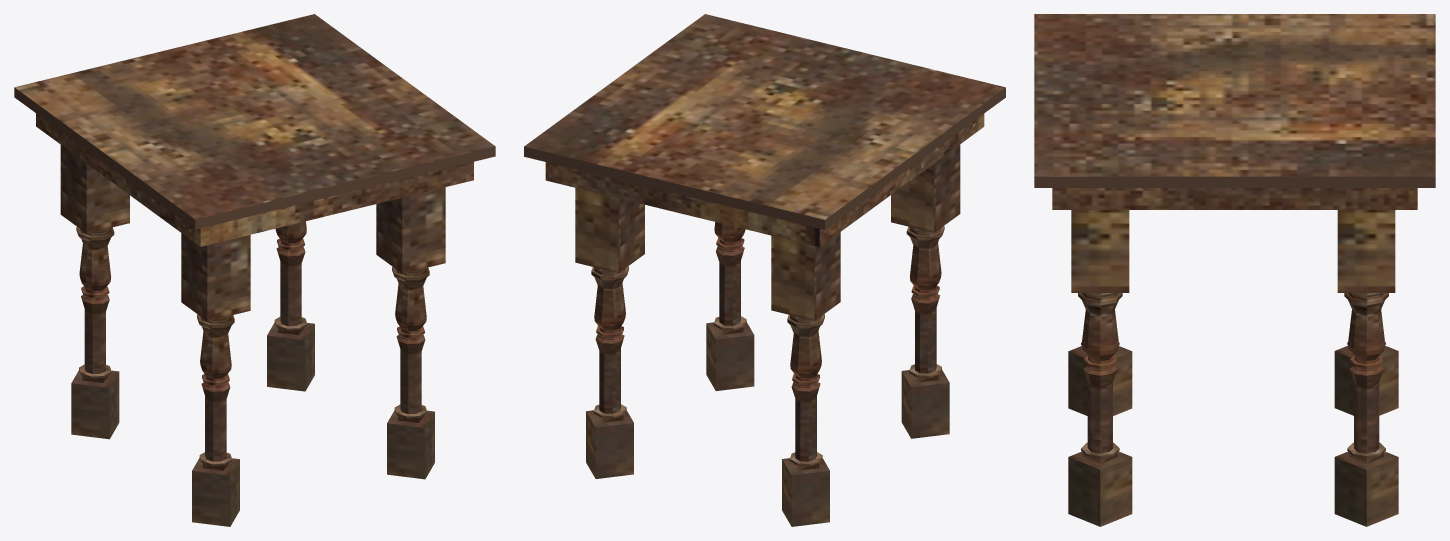
Rendered from Taburete.fbx.
The picture shows the model from 3 angles, left to right: view 1: azimuth 30°, elevation 25°; view 2: azimuth 150°, elevation 25°; view 3: azimuth 270°, elevation 25°; orthographic projection. The views are drawn at different scales.
Parts seen in each view (by area): view 1: polySurface18; view 2: polySurface18; view 3: polySurface18.
Part boxes in pixels (bbox=[...]): polySurface18: bbox=[14, 14, 495, 526]; polySurface18: bbox=[524, 14, 1005, 526]; polySurface18: bbox=[1034, 14, 1435, 526].
Bounding box in the file's own units: 47.67 × 50.18 × 49.71.
